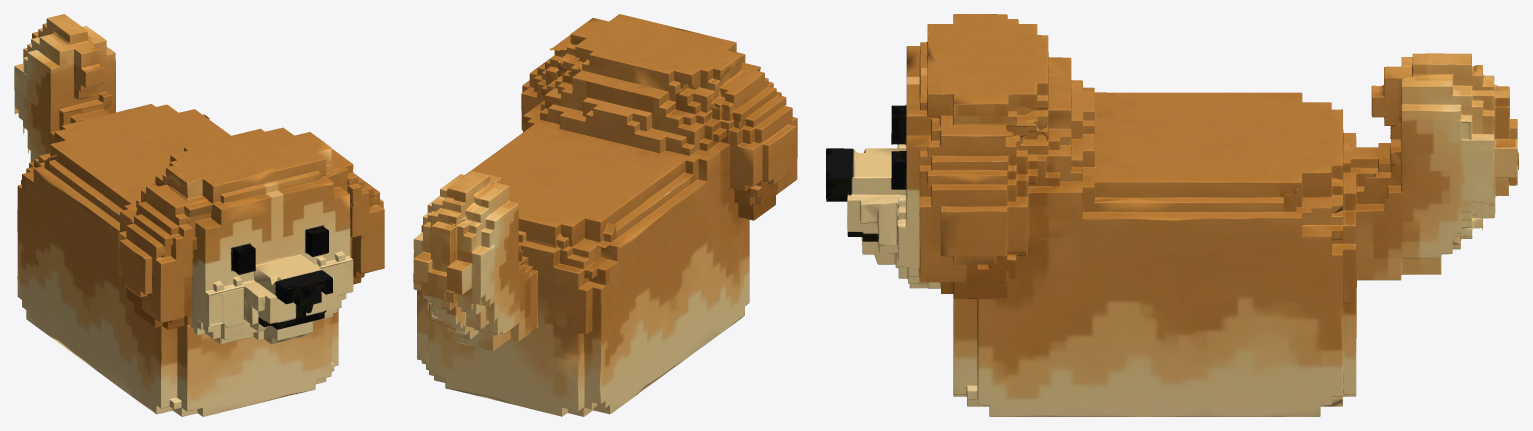
File: Dog.fbx
3 views of the same model, side by side, from view 1: azimuth 30°, elevation 25°; view 2: azimuth 150°, elevation 25°; view 3: azimuth 270°, elevation 25° (orthographic). The views are drawn at different scales.
Parts seen in each view (by area): view 1: Mesh_0; view 2: Mesh_0; view 3: Mesh_0.
Boxes of the visible parts, bbox=[...] form: Mesh_0: bbox=[14, 14, 384, 416]; Mesh_0: bbox=[413, 14, 797, 416]; Mesh_0: bbox=[826, 14, 1518, 416].
Size of the model in its own units: 95.7 by 91.44 by 189.
1 material, 1 textured.
